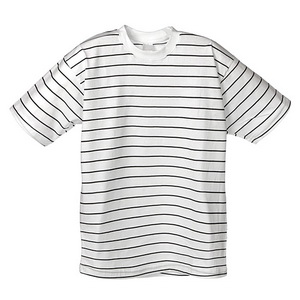striped: (6, 23, 296, 281)
